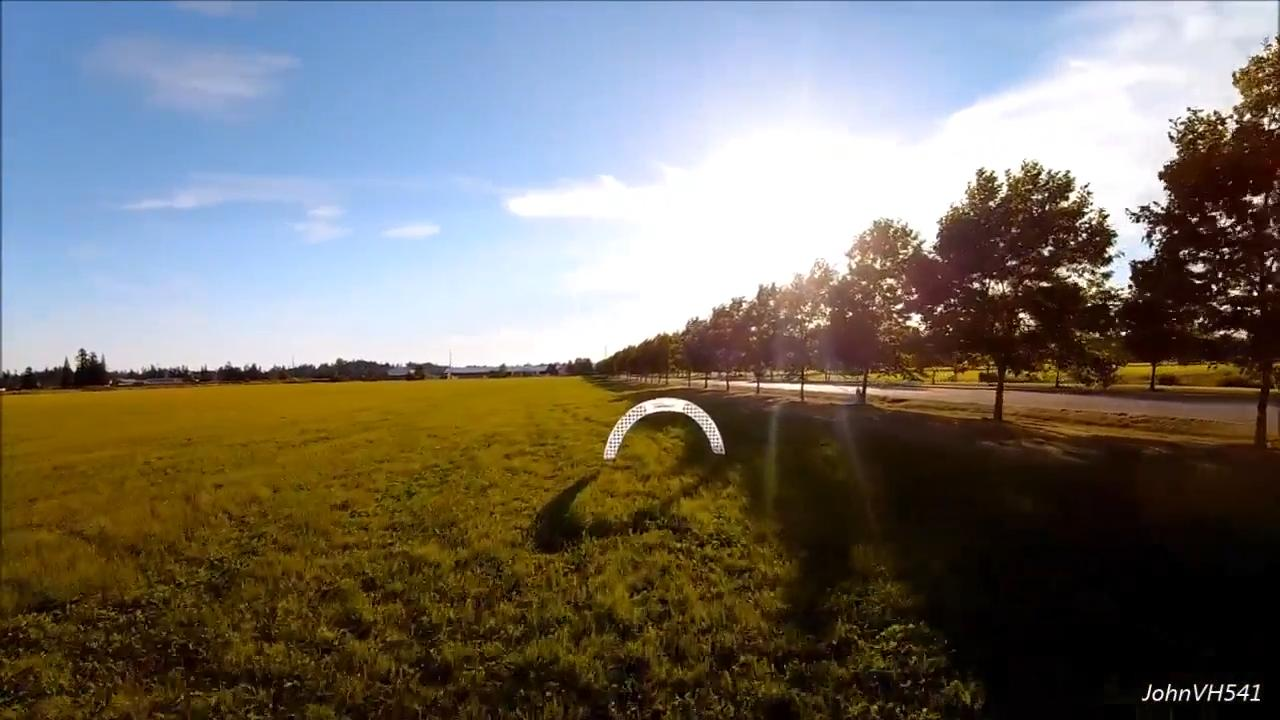gate: (600, 394, 729, 459)
